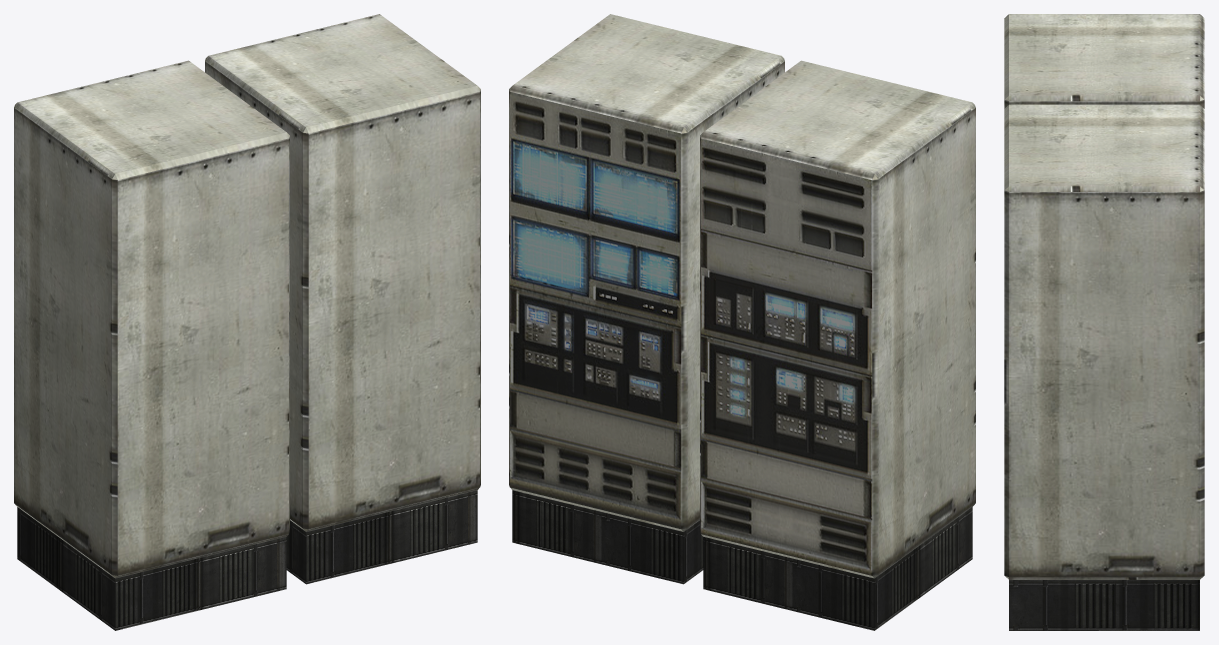
Rendered from servers.FBX.
3 renders of one model, left to right at view 1: azimuth 30°, elevation 25°; view 2: azimuth 150°, elevation 25°; view 3: azimuth 270°, elevation 25°, orthographic. The views are drawn at different scales.
Parts seen in each view (by area): view 1: Box001; view 2: Box001; view 3: Box001.
Part boxes in pixels (left/top/right/bottom): Box001: left=14, top=14, right=480, bottom=630; Box001: left=509, top=14, right=975, bottom=630; Box001: left=1004, top=14, right=1204, bottom=630.
Size of the model in its own units: 0.4249 by 0.2049 by 0.5027.
Materials: 1 (1 with a texture image).
